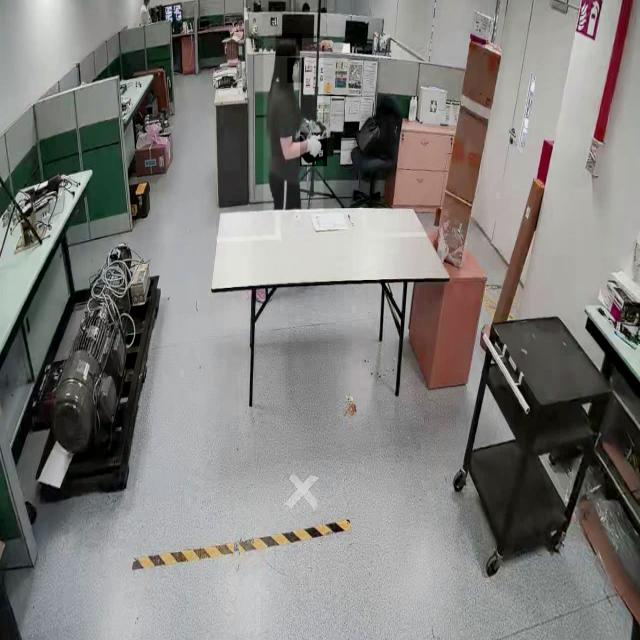face_mask: (287, 58, 303, 84)
hand_glove: (299, 133, 327, 167)
head_nohelmet: (275, 34, 302, 57)
person: (263, 39, 323, 212)
